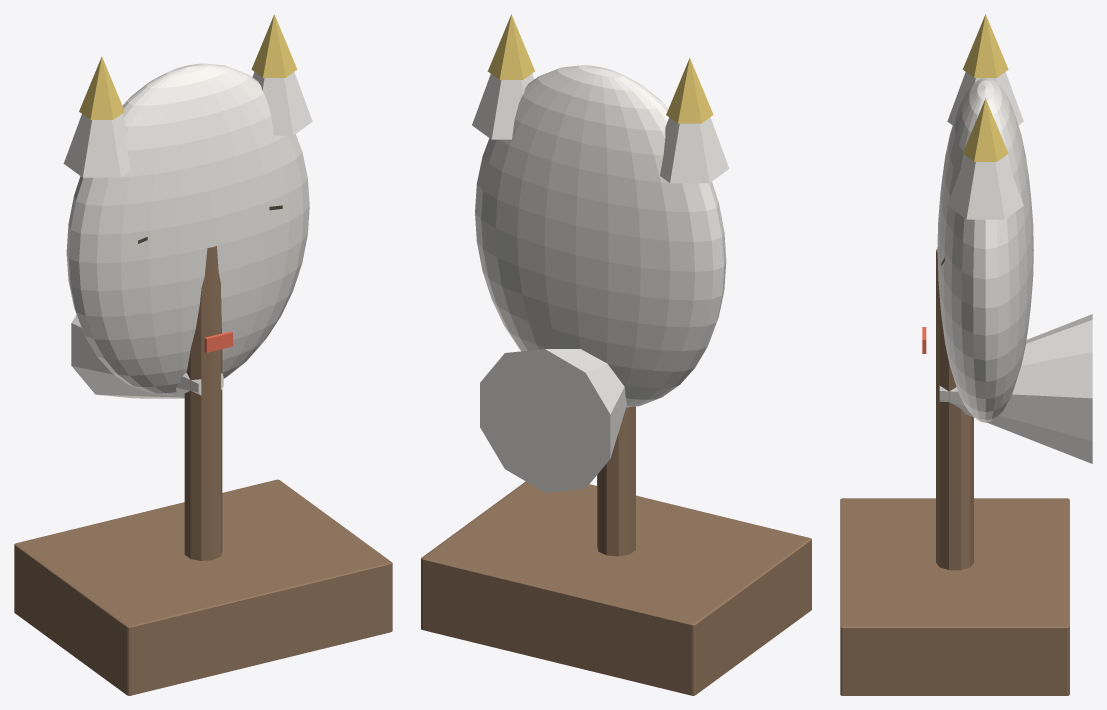
File: kitsune_mask.glb
The picture shows the model from 3 angles, left to right: view 1: azimuth 30°, elevation 25°; view 2: azimuth 150°, elevation 25°; view 3: azimuth 270°, elevation 25°; orthographic projection. The views are drawn at different scales.
Visible parts, largest first — view 1: kitsune_mask; view 2: kitsune_mask; view 3: kitsune_mask.
Boxes of the visible parts, left/top/right/bottom form: kitsune_mask: left=14, top=14, right=392, bottom=695; kitsune_mask: left=421, top=14, right=811, bottom=695; kitsune_mask: left=840, top=14, right=1092, bottom=695.
Bounding box in the file's own units: 0.4 × 0.83 × 0.33.
